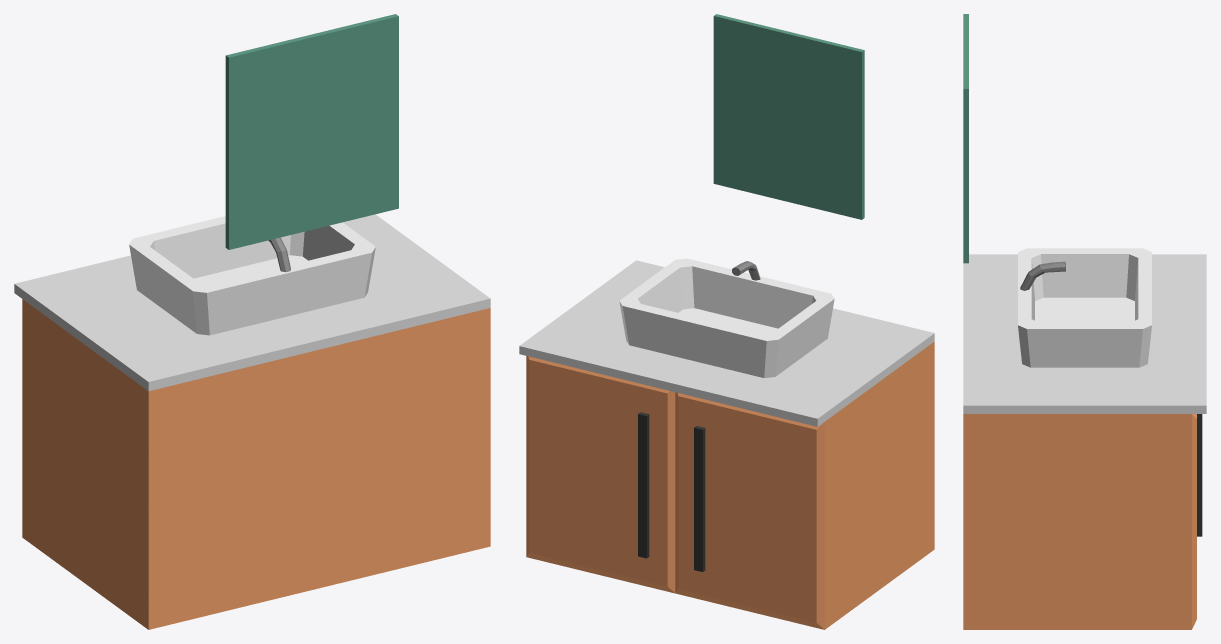
The model's file is Bathroom.fbx.
The picture shows the model from 3 angles, left to right: view 1: azimuth 30°, elevation 25°; view 2: azimuth 150°, elevation 25°; view 3: azimuth 270°, elevation 25°; orthographic projection. The views are drawn at different scales.
Parts seen in each view (by area): view 1: BathroomCupboard, BathroomMirror; view 2: BathroomCupboard, BathroomDoor1, BathroomDoor2, BathroomMirror; view 3: BathroomCupboard, BathroomDoor2, BathroomMirror.
Part boxes in pixels (x1,y1,x2,y2): BathroomCupboard: [14, 214, 490, 629]; BathroomMirror: [225, 14, 398, 249]; BathroomCupboard: [519, 258, 934, 629]; BathroomDoor1: [675, 392, 824, 629]; BathroomDoor2: [526, 356, 675, 593]; BathroomMirror: [713, 14, 864, 219]; BathroomCupboard: [963, 248, 1206, 629]; BathroomDoor2: [1192, 414, 1202, 628]; BathroomMirror: [963, 14, 968, 263].
Size of the model in its own units: 1.18 by 0.8052 by 1.83.
